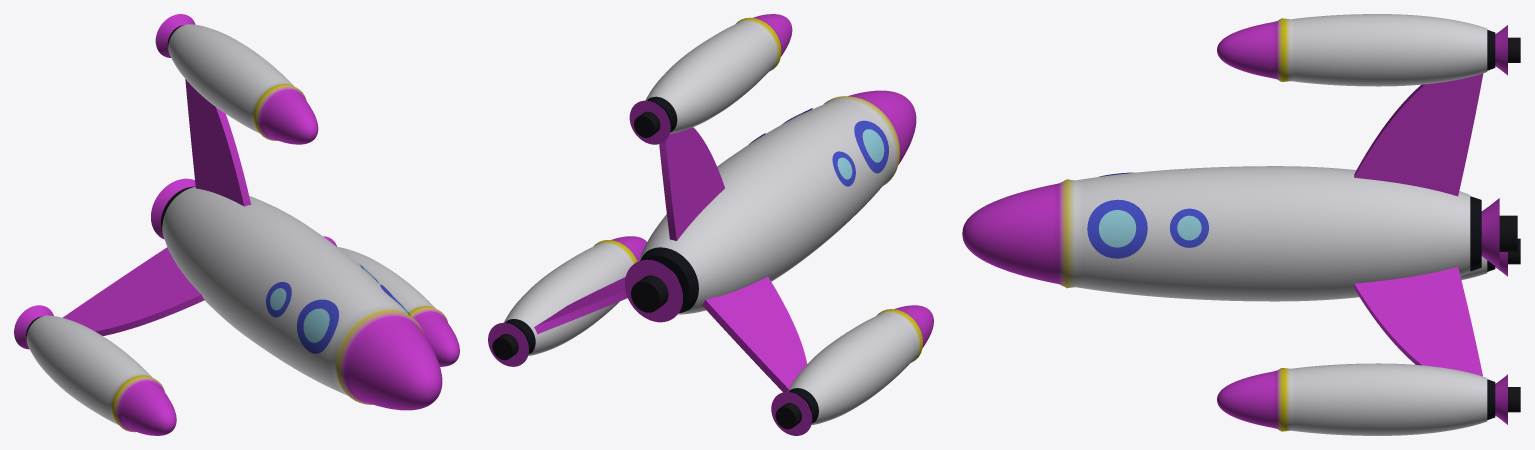
Rendered from rocket-3.obj.
3 views of the same model, side by side, from view 1: azimuth 30°, elevation 25°; view 2: azimuth 150°, elevation 25°; view 3: azimuth 270°, elevation 25° (orthographic). The views are drawn at different scales.
Parts seen in each view (by area): view 1: rocket; view 2: rocket; view 3: rocket.
Part boxes in pixels (x1,y1,x2,y2): rocket: (14,14,459,435); rocket: (488,14,933,435); rocket: (962,14,1520,435).
Bounding box in the file's own units: 131 × 117 × 173.
